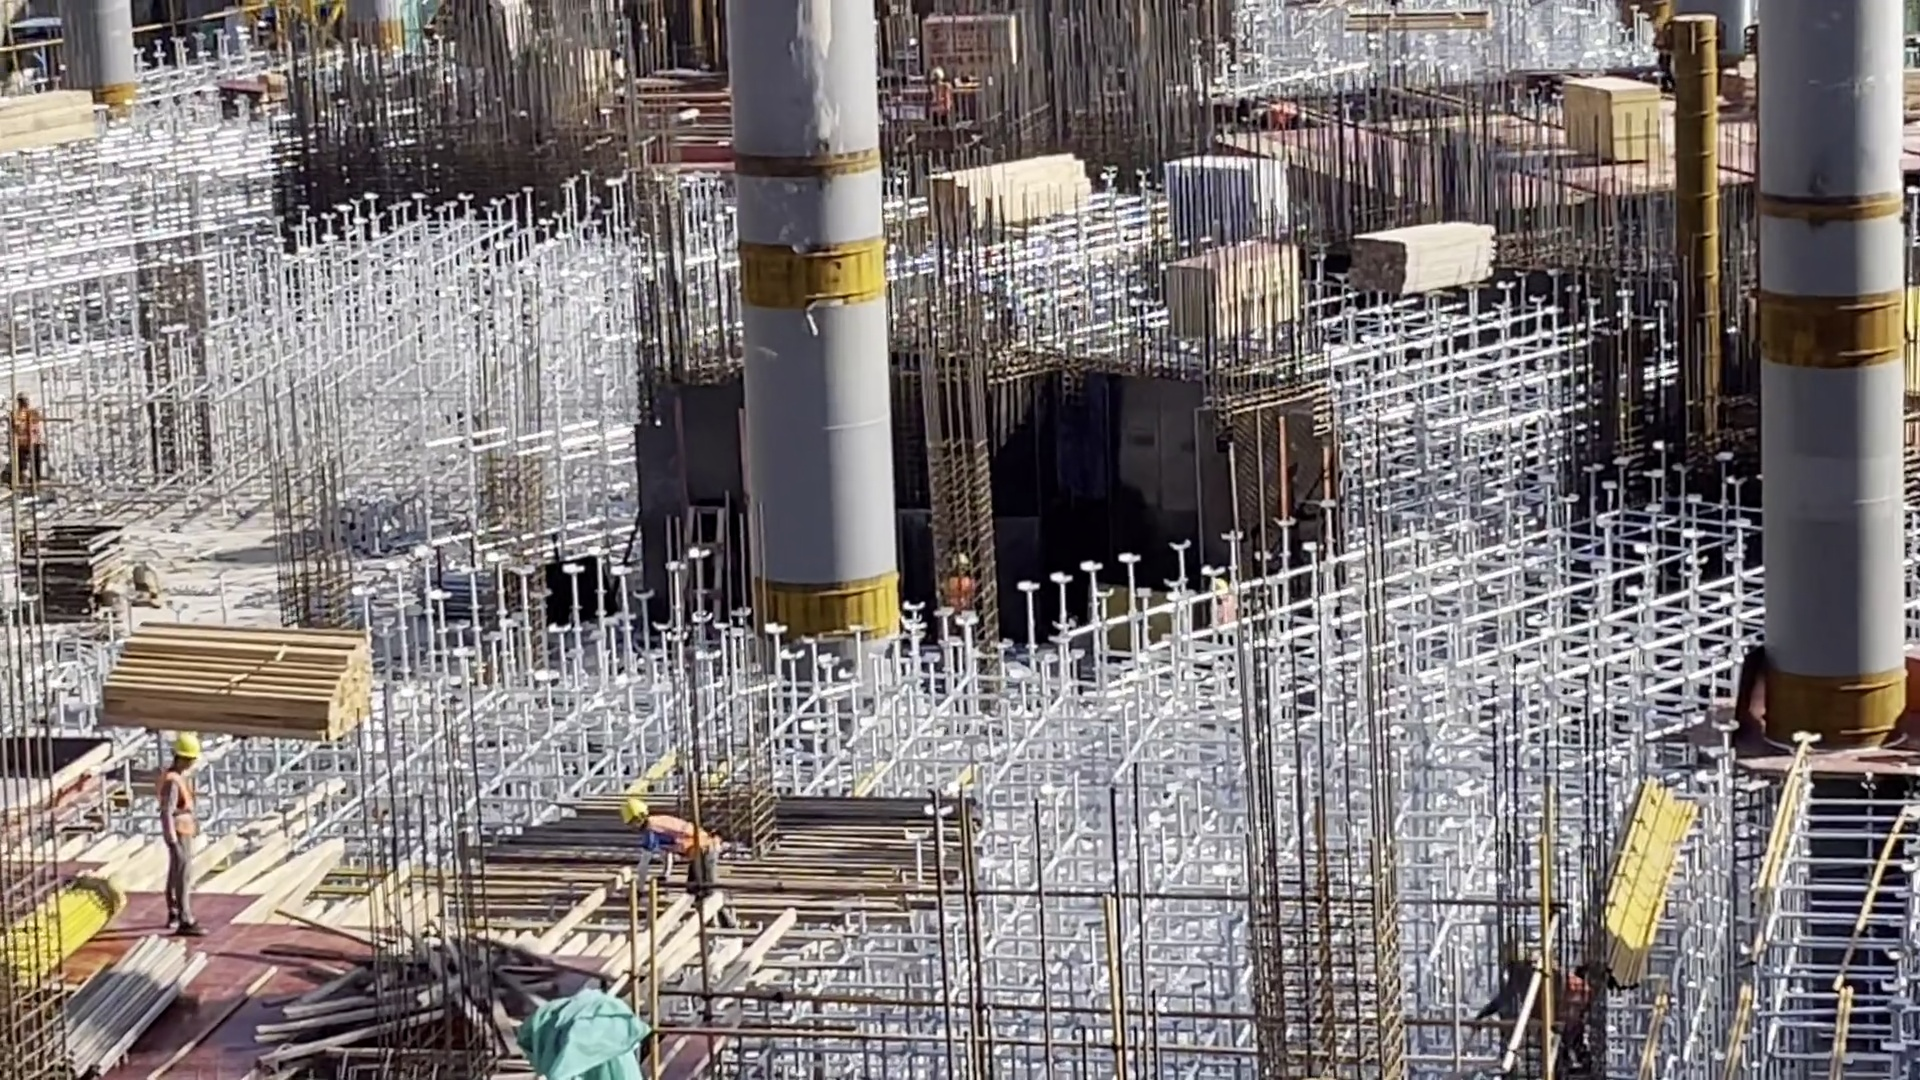helmet: (172, 734, 201, 771), (613, 800, 644, 831), (926, 64, 953, 89), (13, 387, 33, 404)
person: (1465, 934, 1602, 1073), (615, 795, 735, 917), (149, 733, 206, 935), (1, 386, 60, 497), (936, 549, 983, 606), (1237, 100, 1303, 134), (920, 64, 954, 129)
rebar: (764, 783, 954, 919), (438, 807, 593, 915)
vest: (649, 810, 712, 864), (160, 778, 202, 848), (9, 413, 41, 460), (926, 88, 950, 118)
wood: (93, 609, 393, 737), (1351, 220, 1514, 331)
